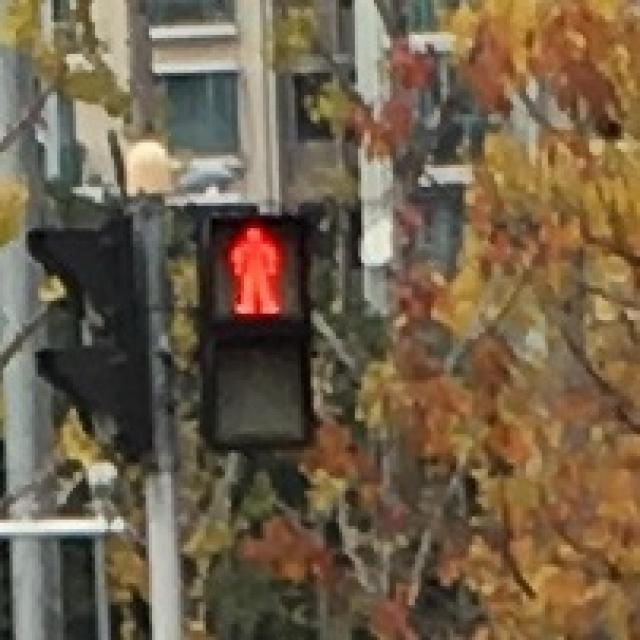red-crossing: (205, 212, 302, 317)
